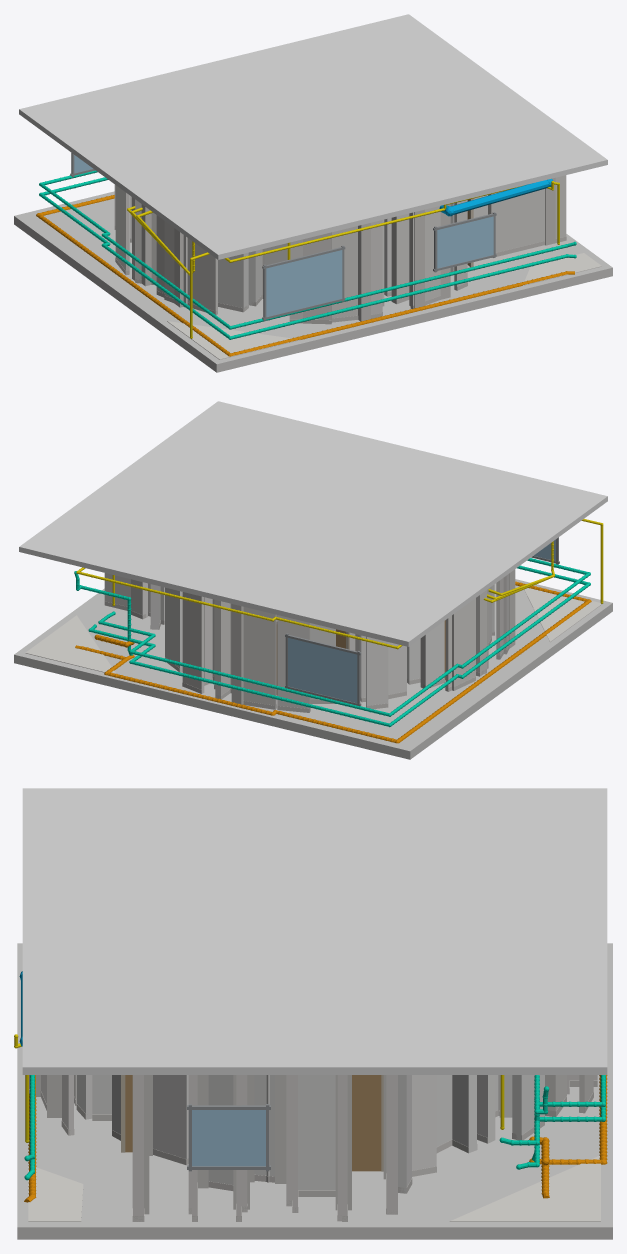
Rendered from bim_3a6a634ceb33.glb.
3 views of the same model, one above another, from view 1: azimuth 30°, elevation 25°; view 2: azimuth 150°, elevation 25°; view 3: azimuth 270°, elevation 25° (orthographic). The views are drawn at different scales.
Parts seen in each view (by area): view 1: arch_geometry_1, arch_geometry_0, arch_geometry_617, mep_plumb_drn_plumb_drn_b52589, mep_plumb_sup_plumb_sup_564170, arch_geometry_2, mep_plumb_sup_plumb_sup_84ac18, arch_geometry_622, arch_geometry_561, arch_geometry_250, arch_geometry_324, arch_geometry_244 (+19 smaller); view 2: arch_geometry_1, arch_geometry_0, arch_geometry_627, arch_geometry_338, mep_plumb_drn_plumb_drn_b52589, mep_plumb_sup_plumb_sup_84ac18, mep_plumb_sup_plumb_sup_564170, arch_geometry_564, arch_geometry_330, arch_geometry_428, arch_geometry_561, arch_geometry_444 (+13 smaller); view 3: arch_geometry_1, arch_geometry_0, arch_geometry_564, arch_geometry_472, arch_geometry_632, arch_geometry_588, arch_geometry_390, arch_geometry_562, arch_geometry_466, arch_geometry_32, arch_geometry_38, arch_geometry_448 (+21 smaller).
Boxes of the visible parts, x1,y1,x2,y2 form: arch_geometry_1: (19,14,607,259); arch_geometry_0: (14,191,612,372); arch_geometry_617: (266,250,342,316); mep_plumb_drn_plumb_drn_b52589: (36,195,574,356); mep_plumb_sup_plumb_sup_564170: (39,177,576,339); arch_geometry_2: (488,189,544,252); mep_plumb_sup_plumb_sup_84ac18: (39,170,576,329); arch_geometry_622: (437,216,493,268); arch_geometry_561: (167,321,300,359); arch_geometry_250: (187,238,217,313); arch_geometry_324: (218,252,248,309); arch_geometry_244: (332,226,357,318); arch_geometry_1: (19,401,607,646); arch_geometry_0: (14,579,612,759); arch_geometry_627: (288,638,357,703); arch_geometry_338: (243,607,276,709); mep_plumb_drn_plumb_drn_b52589: (104,581,591,743); mep_plumb_sup_plumb_sup_84ac18: (127,558,590,716); mep_plumb_sup_plumb_sup_564170: (129,565,590,727); arch_geometry_564: (25,615,116,673); arch_geometry_330: (182,592,204,693); arch_geometry_428: (452,598,475,690); arch_geometry_561: (524,588,602,642); arch_geometry_444: (366,636,388,707); arch_geometry_1: (22,788,607,1074); arch_geometry_0: (17,943,612,1239); arch_geometry_564: (449,1156,600,1221); arch_geometry_472: (298,1075,335,1190); arch_geometry_632: (192,1110,265,1166); arch_geometry_588: (352,1075,381,1171); arch_geometry_390: (153,1075,188,1158); arch_geometry_562: (28,1164,83,1221); arch_geometry_466: (412,1075,436,1170); arch_geometry_32: (452,1075,476,1152); arch_geometry_38: (133,1075,143,1221); arch_geometry_448: (398,1075,411,1193).
Size of the model in its own units: 12.44 by 3.4 by 10.86.
